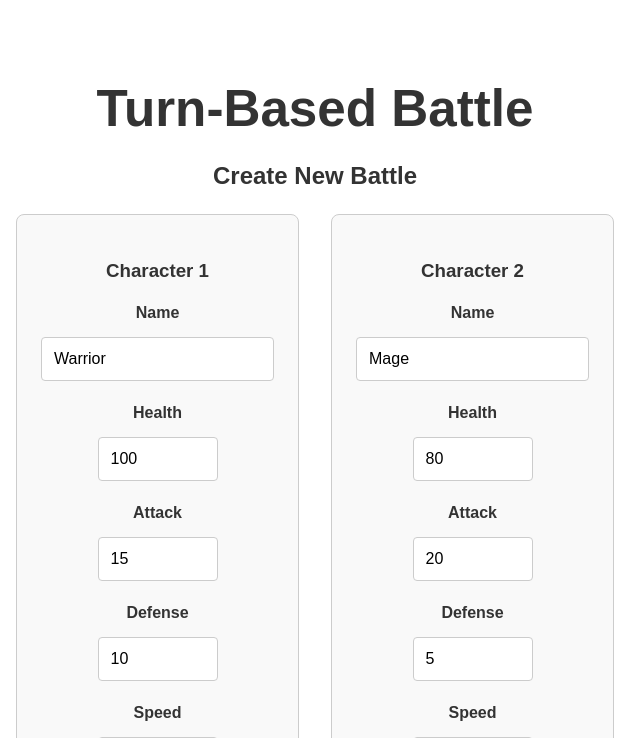
Battle Flow Integration › handles API errors gracefully
Replace the text in the field labelled "Name" below "Character 1" with "Test Warrior" at (158, 359), box [41, 337, 274, 381]
(page scrolled)
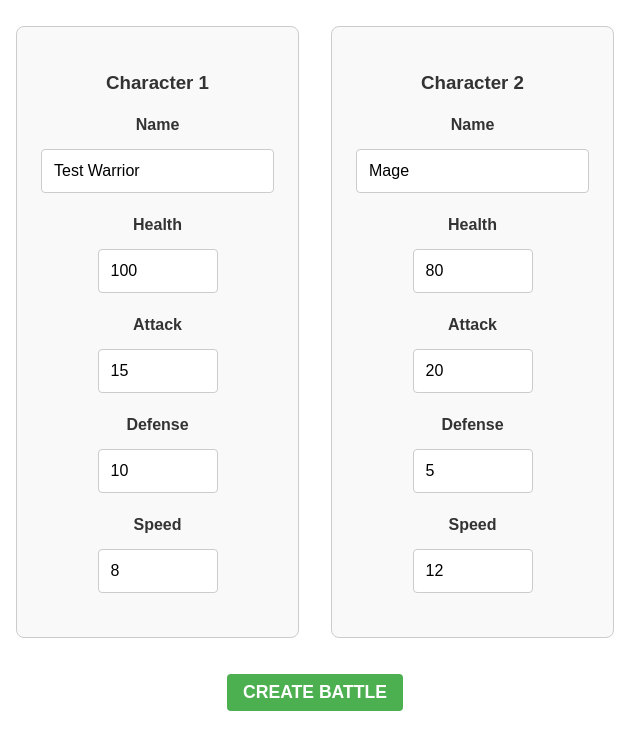
Click the button "Create Battle" at (315, 693), box [227, 674, 403, 711]
(page scrolled)
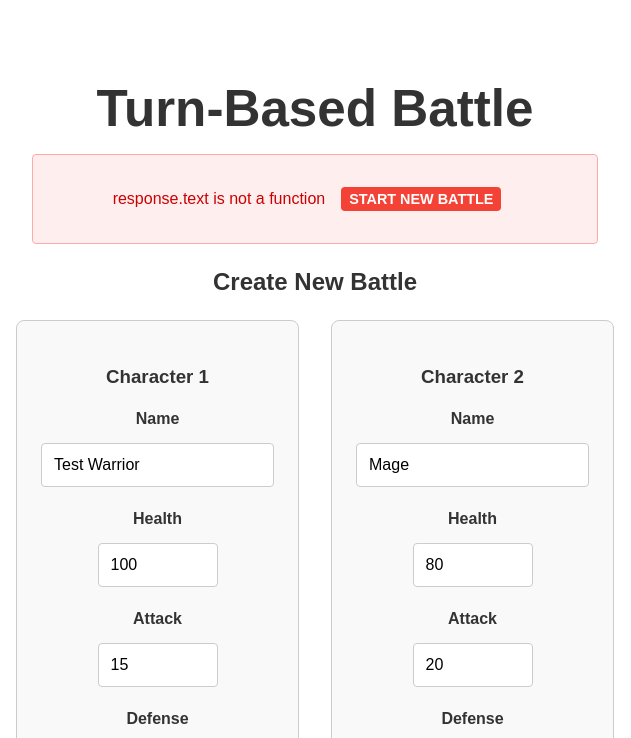
Expected: the text "response.text is not a function" is shown, [113, 190, 325, 207]
